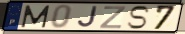0: (48, 4, 74, 30)
7: (153, 5, 177, 31)
J: (76, 5, 99, 29)
M: (21, 4, 52, 28)
S: (126, 5, 152, 30)
Z: (98, 5, 128, 30)
